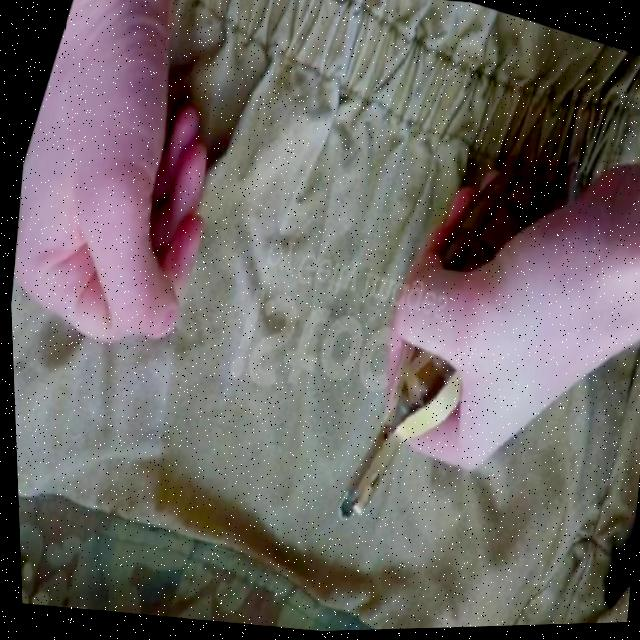grenade: (311, 127, 576, 571)
